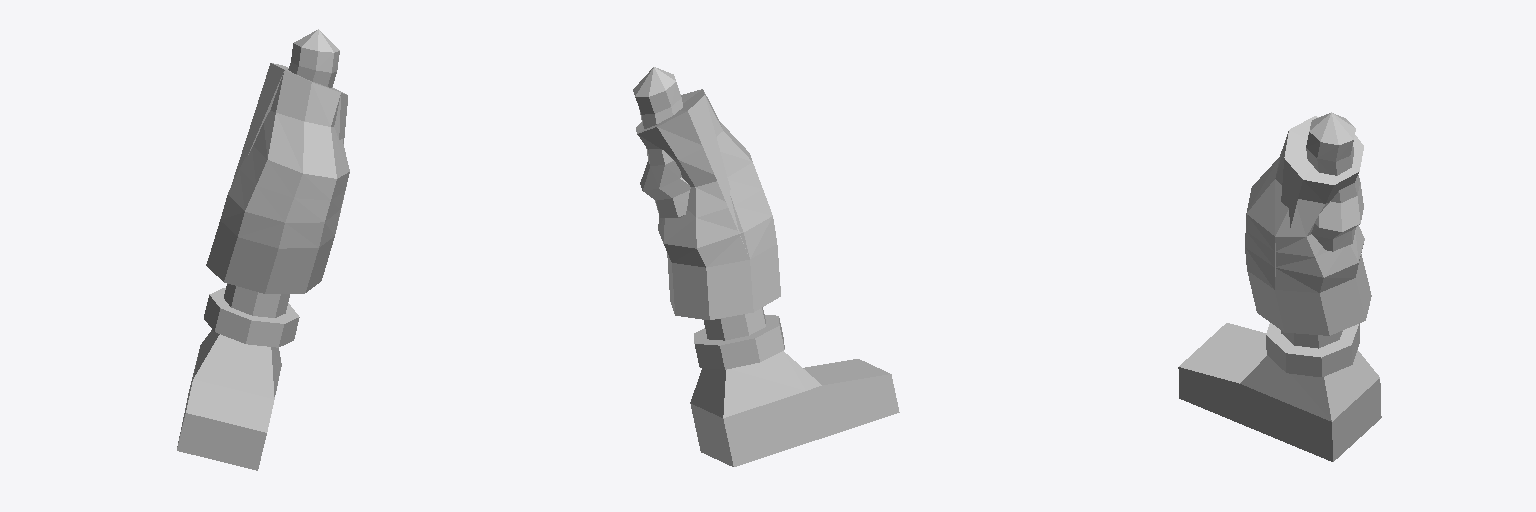
File: right_leg-14_argomon_2.blend.obj
3 views of the same model, side by side, from view 1: azimuth 30°, elevation 25°; view 2: azimuth 150°, elevation 25°; view 3: azimuth 270°, elevation 25° (orthographic).
Visible parts, largest first — view 1: right_leg-14_argomon_2.blend_Argomon_2.007; view 2: right_leg-14_argomon_2.blend_Argomon_2.007; view 3: right_leg-14_argomon_2.blend_Argomon_2.007.
Boxes of the visible parts, <box> form: right_leg-14_argomon_2.blend_Argomon_2.007: <box>177,29,349,470</box>; right_leg-14_argomon_2.blend_Argomon_2.007: <box>633,67,899,466</box>; right_leg-14_argomon_2.blend_Argomon_2.007: <box>1178,112,1381,461</box>.
Bounding box in the file's own units: 3.08 × 5.2 × 2.57.